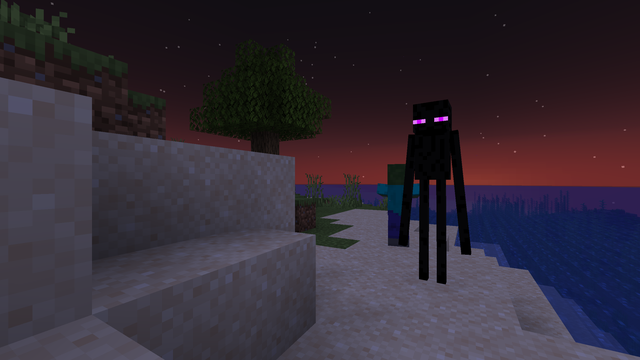endermens: (409, 91, 453, 290)
zombies: (383, 165, 404, 247)
